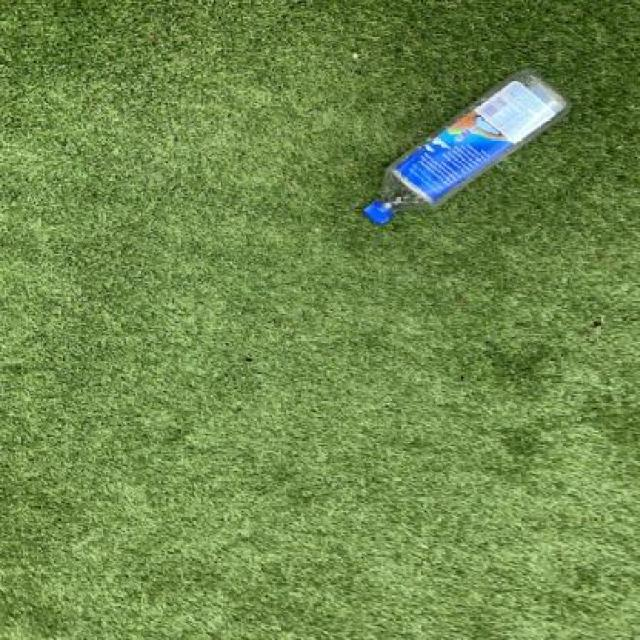trash: (358, 71, 565, 231)
